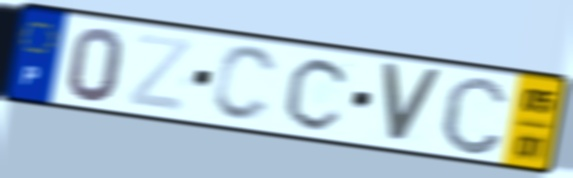0: (61, 23, 128, 105)
C: (437, 72, 512, 158), (208, 43, 281, 125), (280, 54, 355, 133)
V: (377, 59, 446, 148)
Z: (123, 30, 198, 116)
